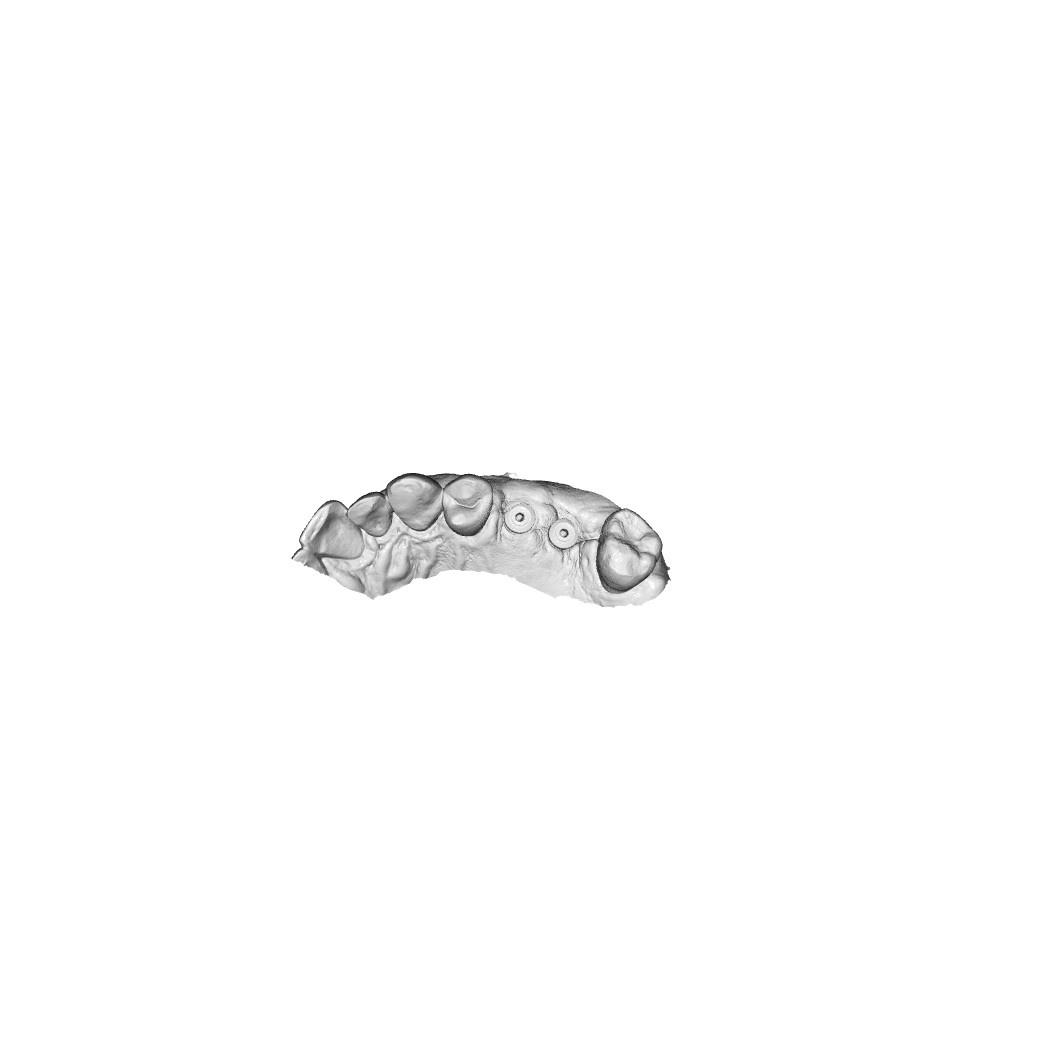canine: (386, 471, 446, 535)
implant: (504, 501, 539, 536), (547, 515, 579, 550)
incisor: (301, 499, 365, 562), (347, 490, 394, 537)
molar: (592, 506, 665, 594)
premolar: (442, 472, 495, 539)
